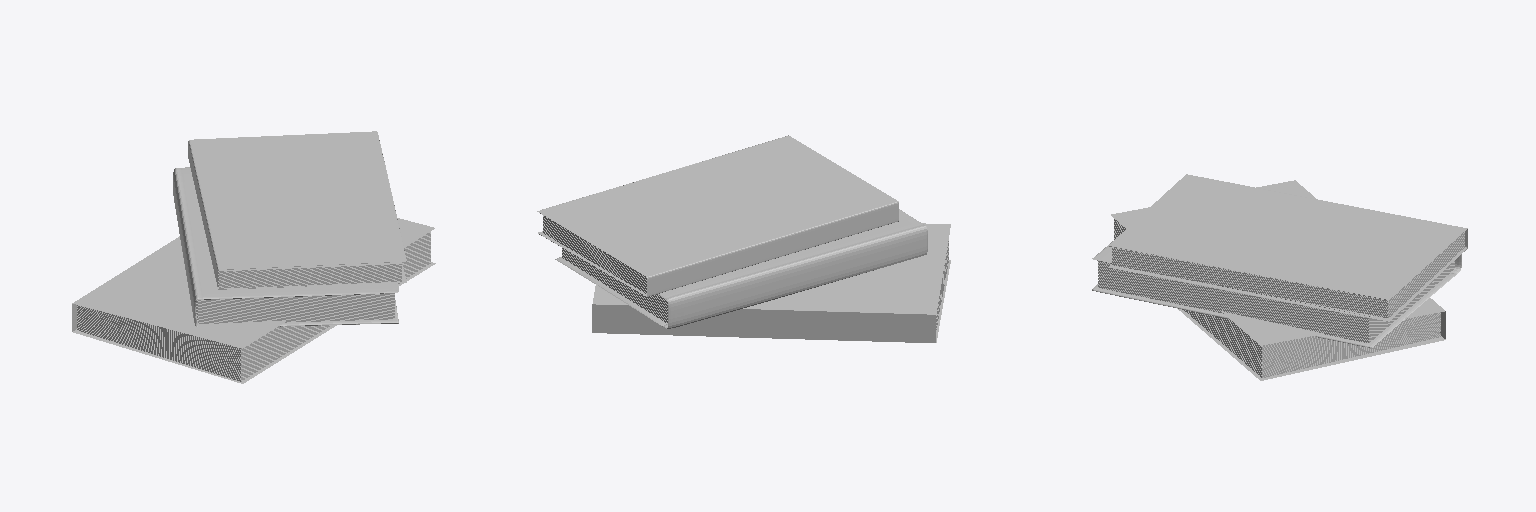
The model's file is book.obj.
3 renders of one model, left to right at view 1: azimuth 30°, elevation 25°; view 2: azimuth 150°, elevation 25°; view 3: azimuth 270°, elevation 25°, orthographic.
Parts seen in each view (by area): view 1: Plane.011_Plane.161; view 2: Plane.011_Plane.161; view 3: Plane.011_Plane.161.
Boxes of the visible parts, box(x1,y1,x2,y2) form: Plane.011_Plane.161: box(72, 131, 435, 383); Plane.011_Plane.161: box(537, 135, 950, 342); Plane.011_Plane.161: box(1092, 174, 1467, 380).
Size of the model in its own units: 0.3374 by 0.0768 by 0.3123.